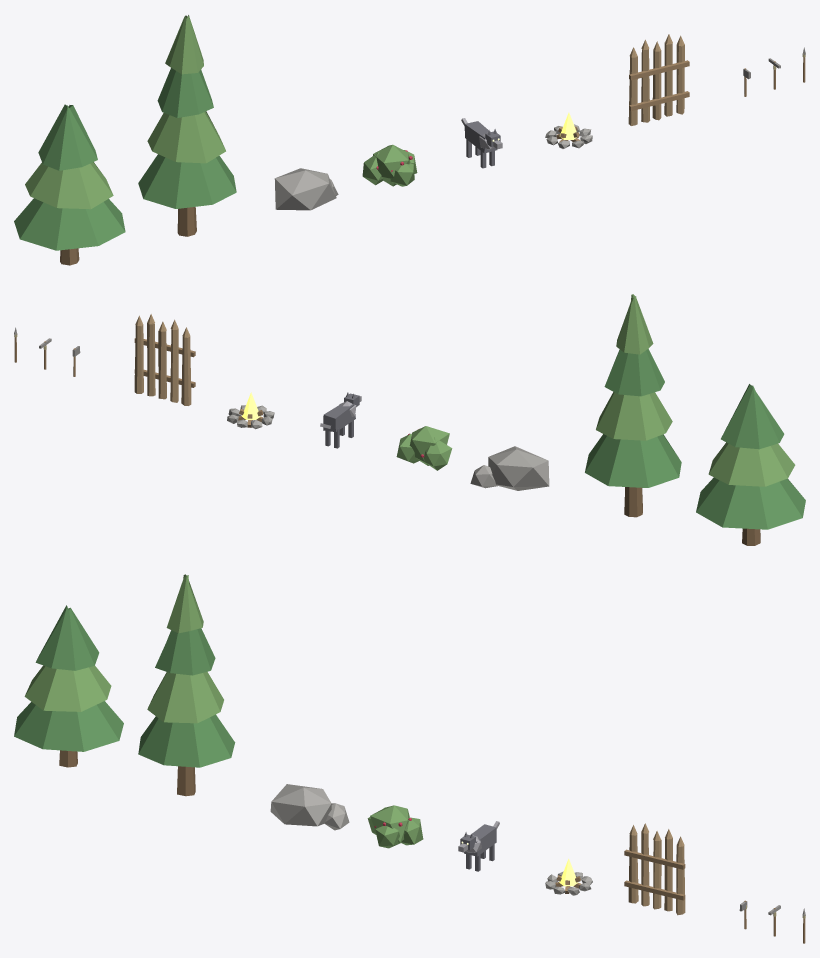
File: survival.glb
3 renders of one model, top to bottom at view 1: azimuth 30°, elevation 25°; view 2: azimuth 150°, elevation 25°; view 3: azimuth 330°, elevation 25°, orthographic.
Visible parts, largest first — view 1: Tree_leaves0, TreeTall_leaves0, Tree_leaves1, TreeTall_leaves1, Tree_leaves2, Rock_main, TreeTall_leaves2, Bush, TreeTall_leaves3, Wall_post3, Wall_post1, TreeTall_trunk (+4 smaller); view 2: Tree_leaves0, TreeTall_leaves0, Tree_leaves1, TreeTall_leaves1, Tree_leaves2, Rock_main, TreeTall_leaves2, Bush, TreeTall_leaves3, Wall_post0, Wall_post3, Wall_post4 (+4 smaller); view 3: Tree_leaves0, TreeTall_leaves0, Tree_leaves1, TreeTall_leaves1, Tree_leaves2, TreeTall_leaves2, Rock_main, Bush, TreeTall_leaves3.
Part boxes in pixels (x1=…): Tree_leaves0: x1=14, y1=198, x2=125, y2=250; TreeTall_leaves0: x1=138, y1=154, x2=236, y2=208; Tree_leaves1: x1=25, y1=162, x2=113, y2=209; TreeTall_leaves1: x1=147, y1=111, x2=225, y2=163; Tree_leaves2: x1=38, y1=104, x2=97, y2=170; Rock_main: x1=274, y1=168, x2=336, y2=210; TreeTall_leaves2: x1=157, y1=68, x2=213, y2=117; Bush: x1=362, y1=144, x2=417, y2=186; TreeTall_leaves3: x1=165, y1=15, x2=203, y2=74; Wall_post3: x1=664, y1=42, x2=672, y2=116; Wall_post1: x1=641, y1=49, x2=650, y2=122; TreeTall_trunk: x1=177, y1=207, x2=196, y2=236; Tree_leaves0: x1=696, y1=477, x2=805, y2=529; TreeTall_leaves0: x1=585, y1=434, x2=681, y2=487; Tree_leaves1: x1=708, y1=442, x2=795, y2=486; TreeTall_leaves1: x1=596, y1=392, x2=672, y2=440; Tree_leaves2: x1=721, y1=384, x2=784, y2=449; Rock_main: x1=488, y1=446, x2=549, y2=490; TreeTall_leaves2: x1=604, y1=348, x2=664, y2=396; Bush: x1=396, y1=426, x2=452, y2=470; TreeTall_leaves3: x1=616, y1=294, x2=653, y2=354; Wall_post0: x1=181, y1=336, x2=191, y2=405; Wall_post3: x1=147, y1=323, x2=155, y2=396; Wall_post4: x1=134, y1=325, x2=143, y2=393; Tree_leaves0: x1=14, y1=701, x2=123, y2=751; TreeTall_leaves0: x1=138, y1=714, x2=235, y2=767; Tree_leaves1: x1=24, y1=665, x2=111, y2=711; TreeTall_leaves1: x1=147, y1=671, x2=223, y2=723; Tree_leaves2: x1=35, y1=605, x2=99, y2=670; TreeTall_leaves2: x1=155, y1=628, x2=215, y2=675; Rock_main: x1=270, y1=784, x2=331, y2=826; Bush: x1=367, y1=805, x2=423, y2=848; TreeTall_leaves3: x1=166, y1=574, x2=203, y2=633.
Bounding box in the file's own units: 26.77 × 7.29 × 3.32.
